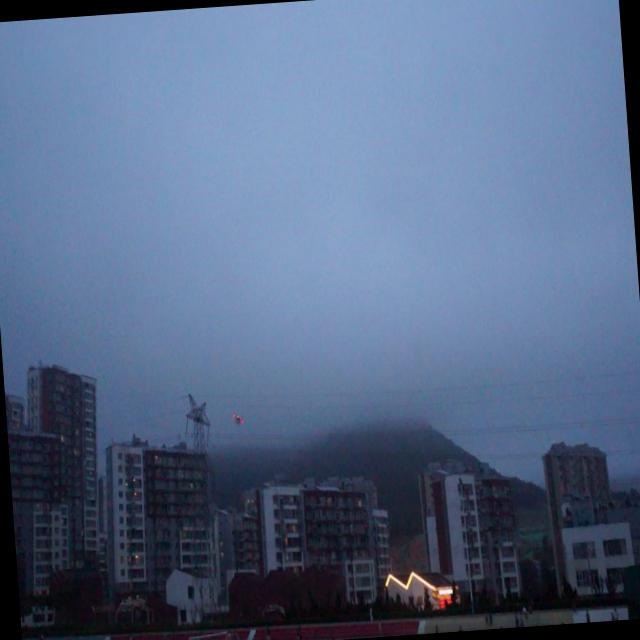drone: (230, 404, 246, 430)
